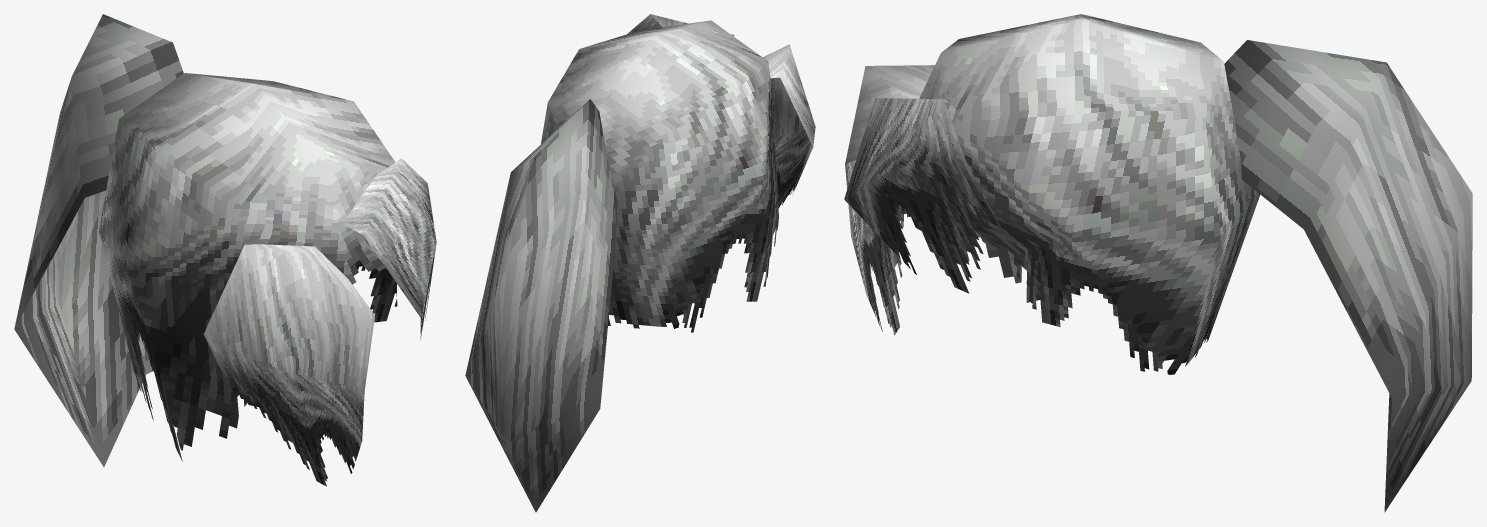
The model's file is HUmar hair5.obj.
The picture shows the model from 3 angles, left to right: view 1: azimuth 30°, elevation 25°; view 2: azimuth 150°, elevation 25°; view 3: azimuth 270°, elevation 25°; orthographic projection. The views are drawn at different scales.
Visible parts, largest first — view 1: objg_plAhai04_1, objg_plAhai04_2, objg_plAhai04_3; view 2: objg_plAhai04_1, objg_plAhai04_3, objg_plAhai04_2; view 3: objg_plAhai04_1, objg_plAhai04_3, objg_plAhai04_2.
Part boxes in pixels (<box>): objg_plAhai04_1: <box>99,73,397,461</box>; objg_plAhai04_2: <box>203,158,436,486</box>; objg_plAhai04_3: <box>14,14,183,466</box>; objg_plAhai04_1: <box>541,20,778,332</box>; objg_plAhai04_3: <box>465,99,617,512</box>; objg_plAhai04_2: <box>627,14,815,208</box>; objg_plAhai04_1: <box>919,14,1260,374</box>; objg_plAhai04_3: <box>1224,40,1472,512</box>; objg_plAhai04_2: <box>844,65,1002,335</box>.
Bounding box in the file's own units: 0.847 × 1.39 × 1.61.
2 materials, 2 textured.
